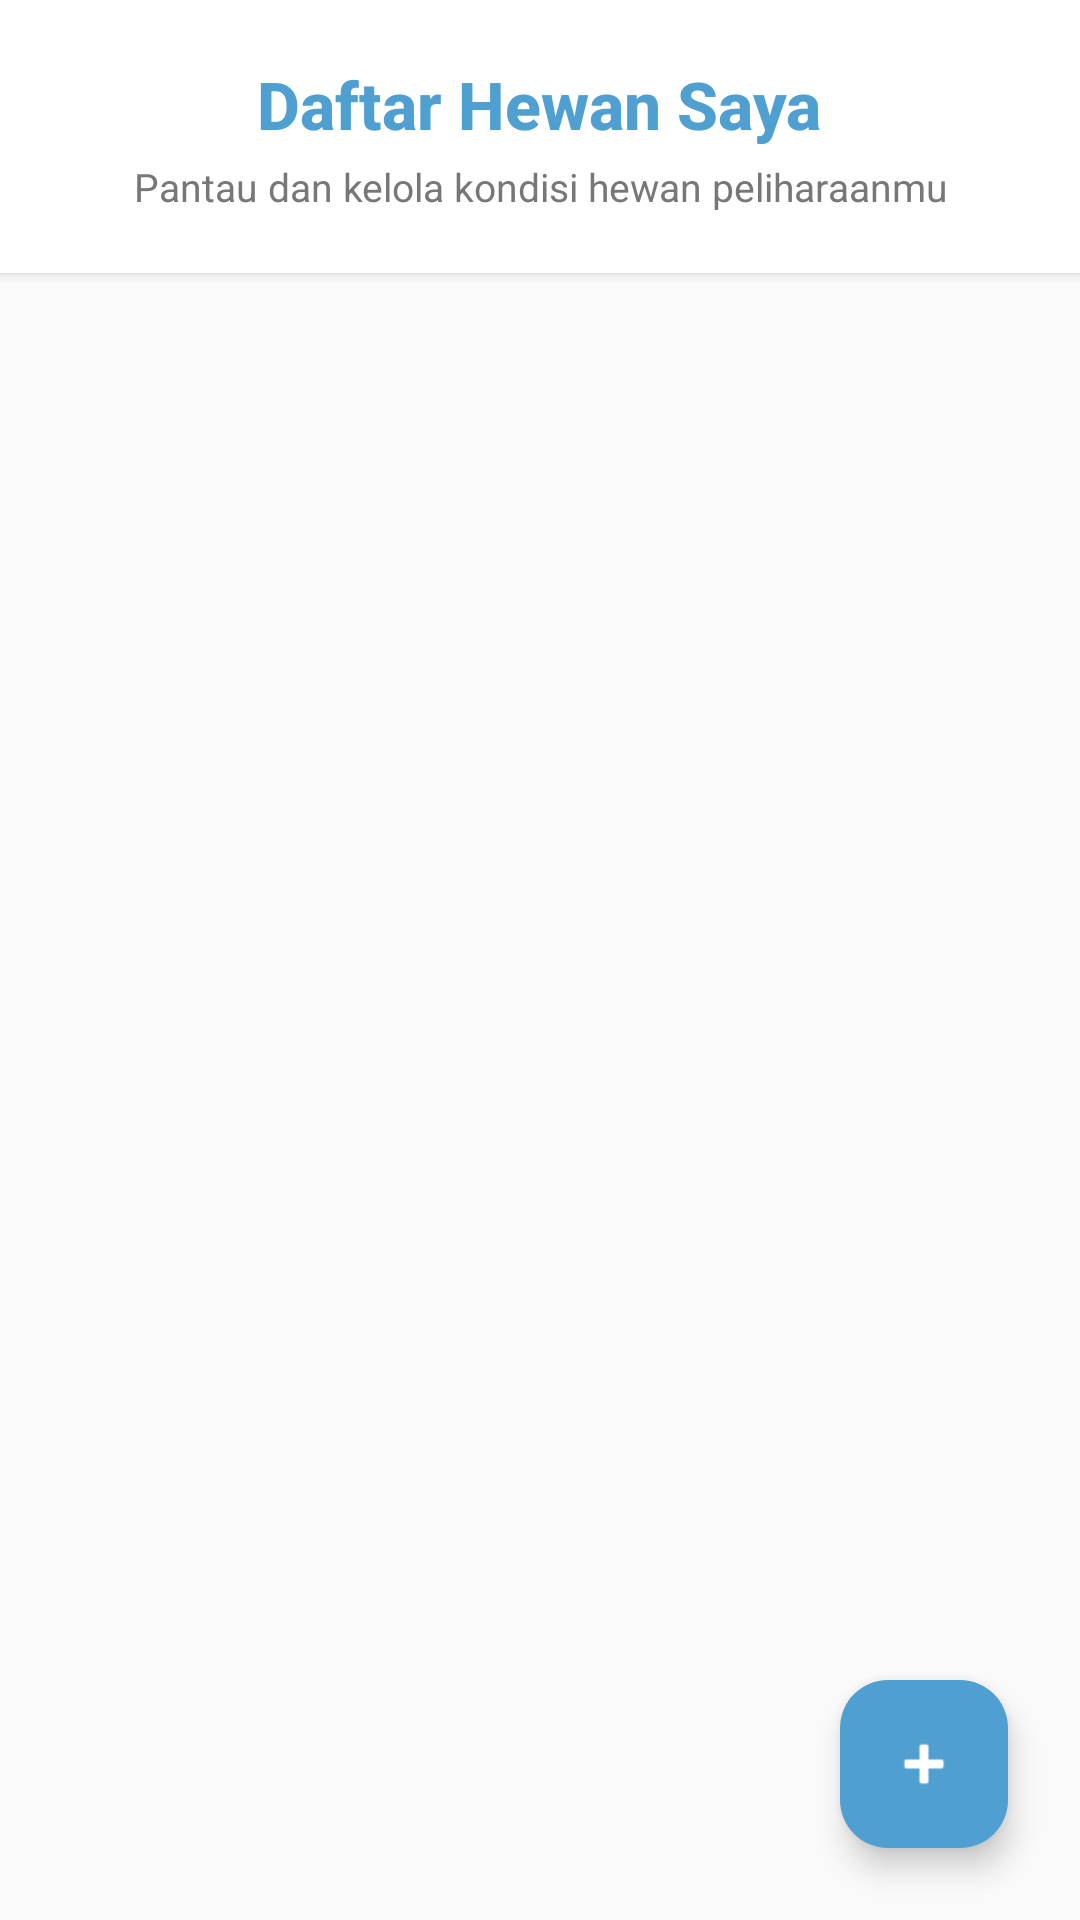

Named icons in this screenshot (1080px×1920px) and their centers, [x,y]:
Tambah Hewan: [924,1764]
